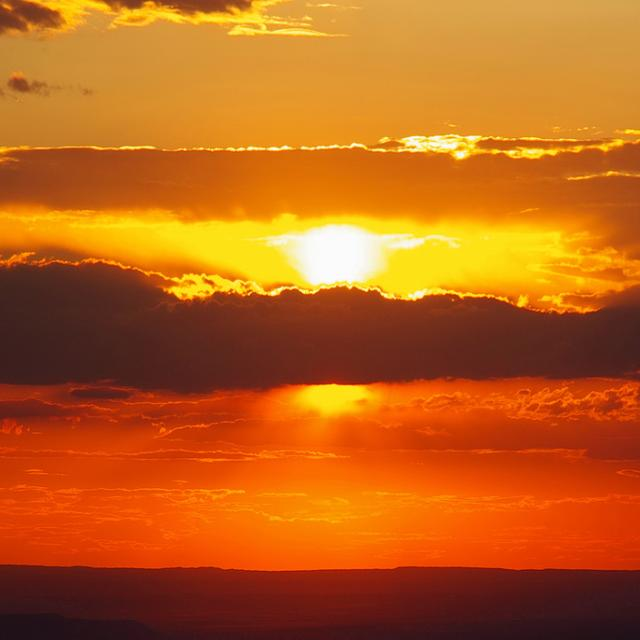no_fire: (105, 398, 625, 600), (135, 177, 540, 353)
